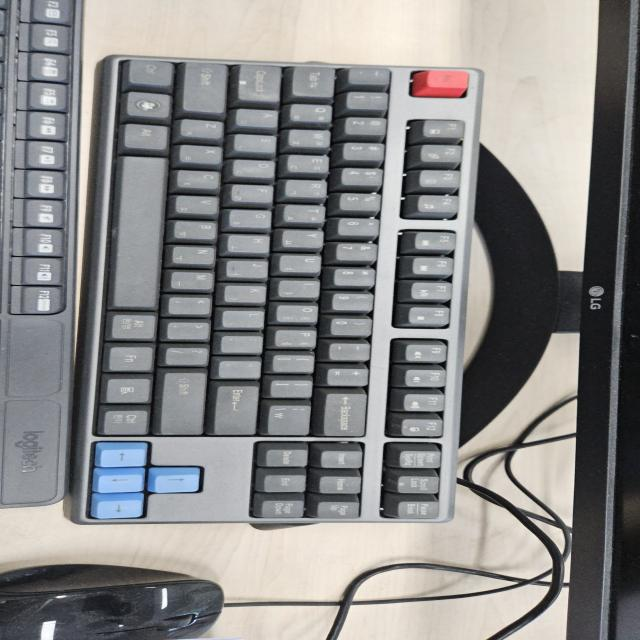Keyboard: (66, 52, 483, 525)
Mouse: (1, 562, 227, 638)
